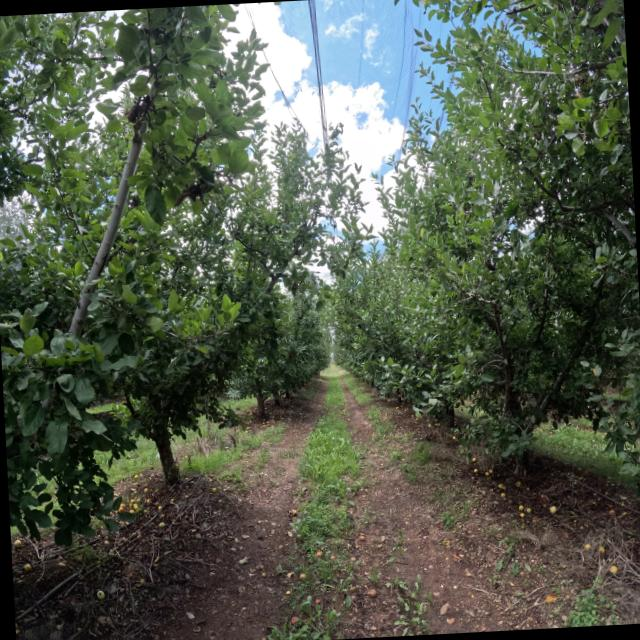-FireBlight-: (125, 94, 154, 141), (174, 186, 206, 206), (573, 76, 587, 86), (575, 90, 585, 99)
